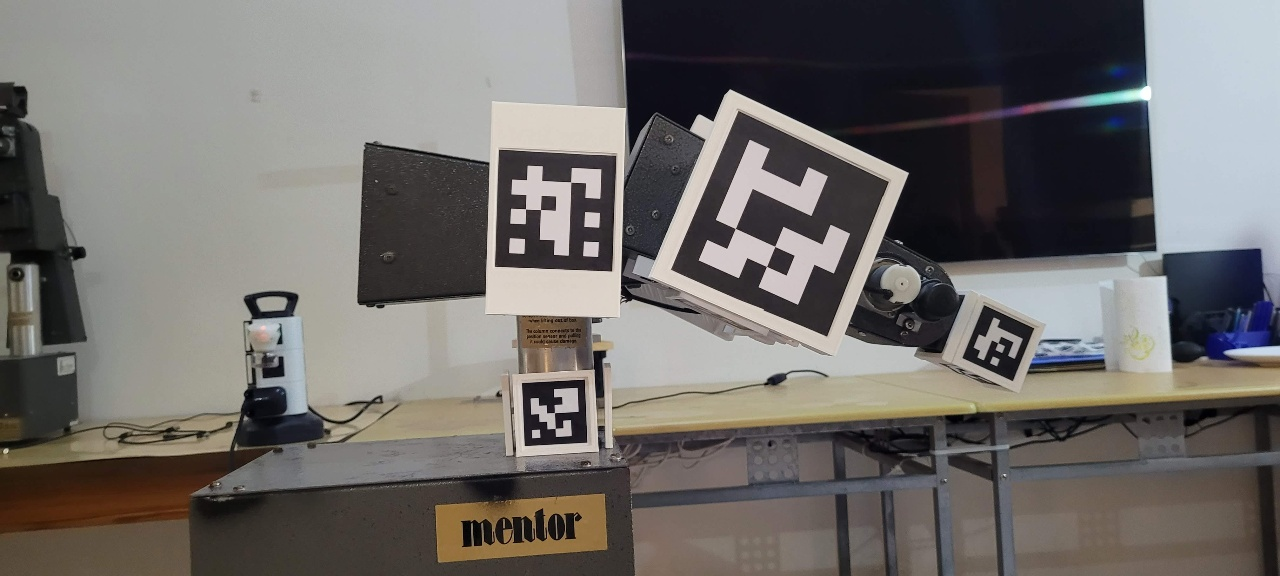Robot: (267, 32, 848, 576)
